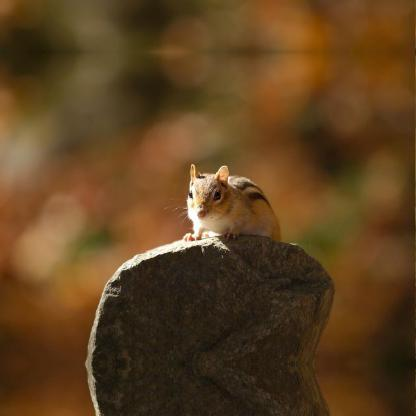Squirrel: (163, 164, 281, 240)
